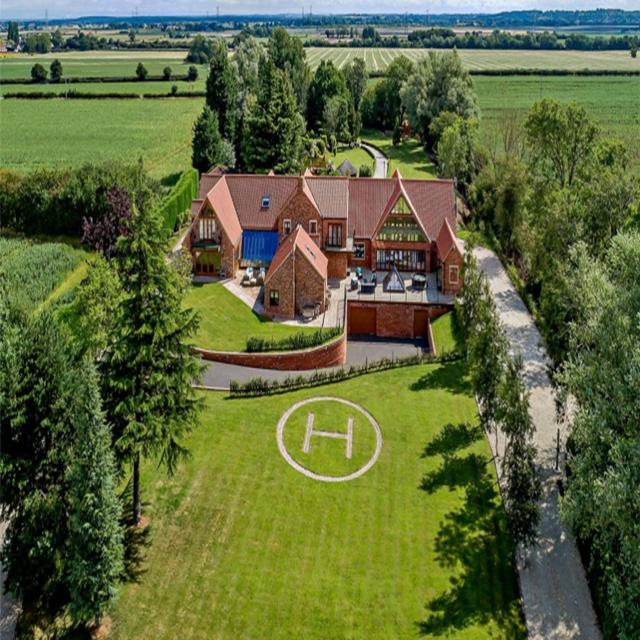helipad: (274, 391, 384, 486)
